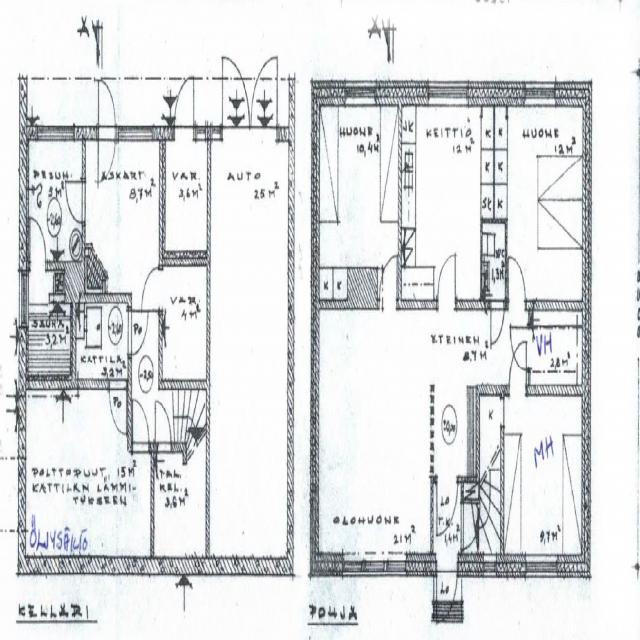door: (222, 54, 250, 140), (250, 54, 277, 140), (436, 554, 457, 629), (174, 76, 194, 140), (437, 476, 457, 536), (379, 253, 397, 309), (98, 82, 115, 140), (98, 126, 115, 184), (438, 254, 455, 309), (509, 340, 526, 395), (508, 255, 525, 309), (512, 327, 533, 370), (128, 311, 148, 355), (110, 380, 126, 433), (133, 400, 149, 452), (155, 402, 171, 452), (30, 220, 46, 270), (143, 268, 162, 310), (66, 181, 85, 222), (461, 508, 478, 548), (491, 300, 504, 342)
